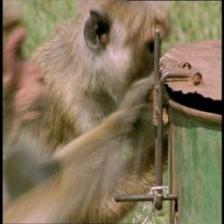monkey: (89, 0, 173, 117), (1, 0, 55, 127)
